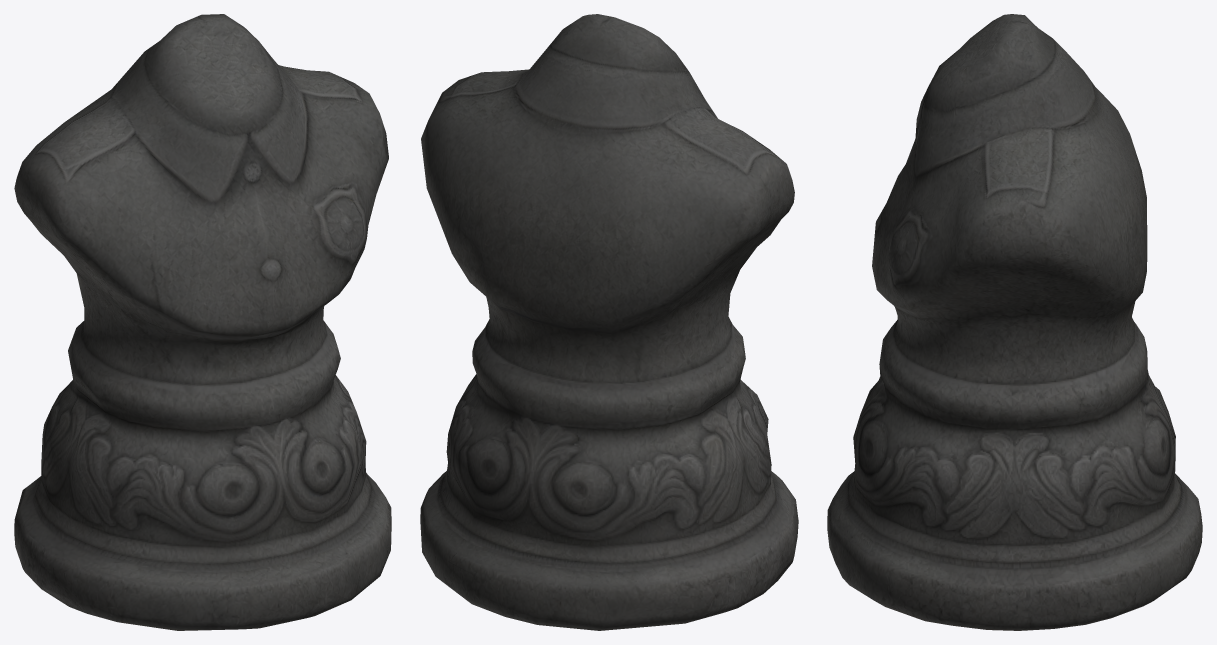
File: Police_Body.fbx
3 renders of one model, left to right at view 1: azimuth 30°, elevation 25°; view 2: azimuth 150°, elevation 25°; view 3: azimuth 270°, elevation 25°, orthographic.
Parts seen in each view (by area): view 1: Police_Body; view 2: Police_Body; view 3: Police_Body.
Boxes of the visible parts, x1,y1,x2,y2 form: Police_Body: (14,14,391,630); Police_Body: (420,14,798,630); Police_Body: (827,14,1202,630).
Size of the model in its own units: 64.94 by 99.07 by 62.87.
